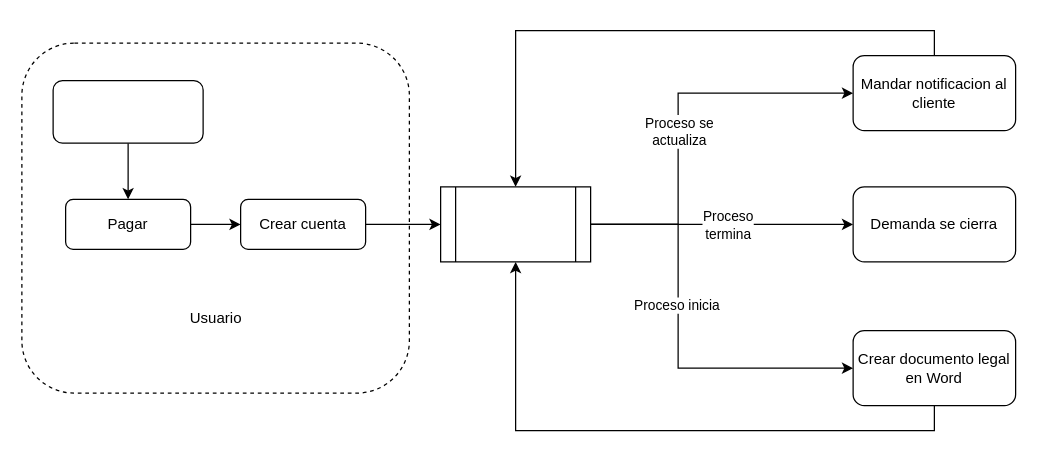
This 1038x463 diagram has some shape labels left out. The shapes that lost their labels are listed below. From the top down, each one's centre as x and y in pixels, then its label:
At point (127, 111): "Llenar formulario de demanda".
At point (515, 224): "Abogabot".
